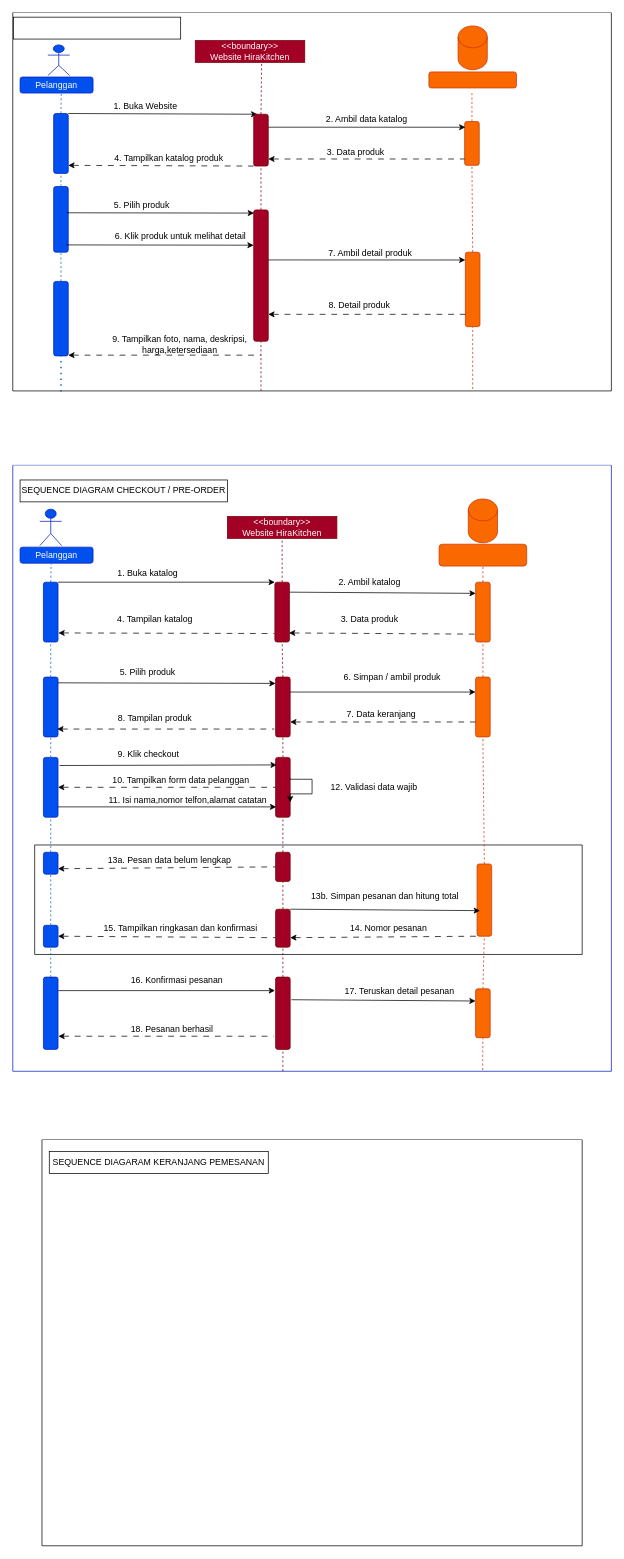
Some shapes in this 624 by 1559 pixel diagram are drawn without their labels. The centre of each missing label's shape, as x and y in pixels:
<<external>> Database: point 482,554
Database: point 472,79
SEQUENCE DIAGRAM DETAIL PRODUK: point 97,27
